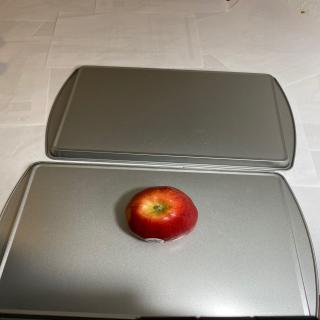Apple: (124, 186, 198, 243)
